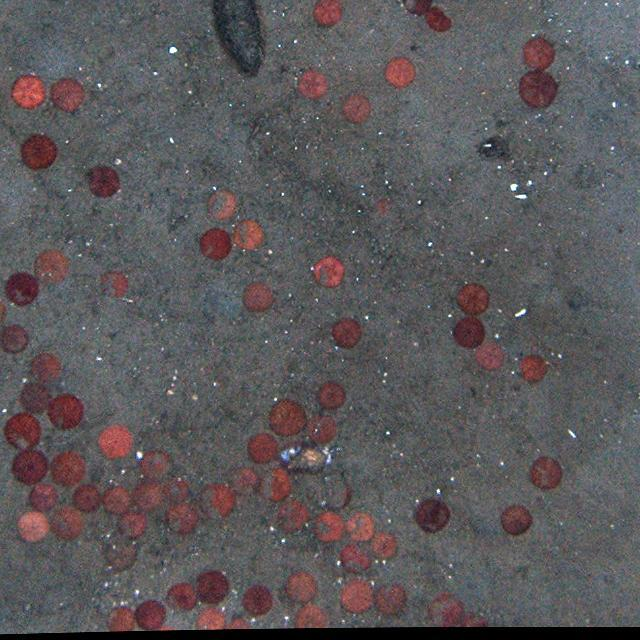whelk: (282, 445, 332, 472)
